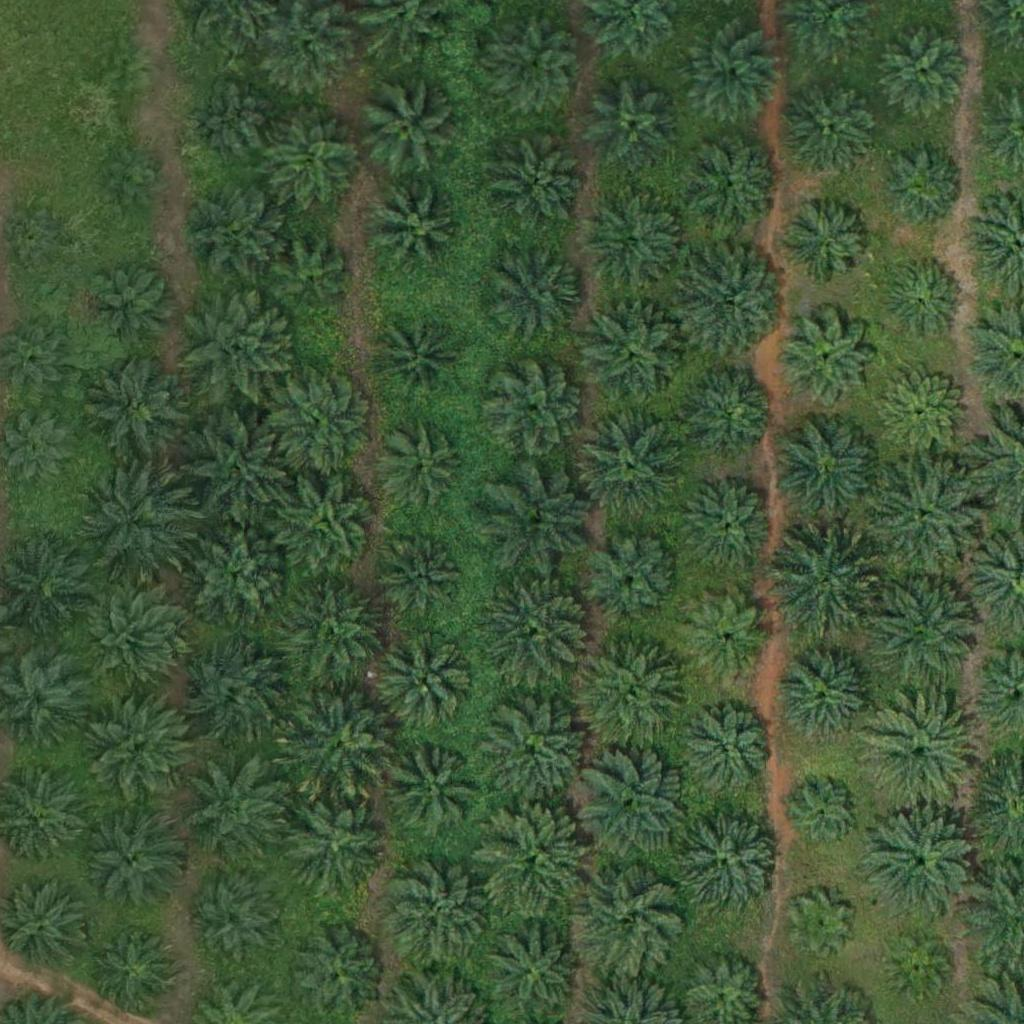Kelapa_Sawit: (576, 298, 689, 412), (676, 244, 789, 358), (773, 414, 886, 528), (765, 527, 878, 641), (81, 693, 194, 807), (182, 292, 295, 405), (482, 579, 595, 692), (477, 698, 590, 811), (771, 636, 884, 749), (863, 698, 976, 811), (865, 809, 978, 922), (570, 864, 683, 977), (475, 802, 588, 915), (871, 459, 983, 573), (868, 571, 980, 685), (179, 757, 291, 871), (678, 14, 790, 127), (76, 354, 188, 467), (77, 469, 189, 582), (182, 416, 294, 529), (179, 634, 291, 747), (283, 586, 395, 699), (482, 458, 594, 571), (575, 405, 687, 518), (572, 636, 684, 749), (674, 808, 786, 921), (574, 749, 686, 862), (384, 856, 496, 969), (280, 690, 392, 803), (780, 76, 880, 177), (260, 104, 360, 205), (190, 65, 290, 166), (190, 188, 290, 289), (189, 529, 289, 630), (278, 374, 378, 475), (276, 471, 376, 572), (368, 313, 468, 414), (375, 631, 475, 732), (484, 354, 584, 455), (581, 525, 681, 626), (381, 740, 481, 841), (487, 11, 587, 111), (487, 133, 587, 233), (362, 80, 462, 180), (85, 590, 185, 690), (492, 241, 592, 341), (584, 189, 684, 289), (678, 363, 778, 463), (678, 477, 778, 577), (775, 309, 875, 409), (284, 799, 384, 899), (81, 814, 181, 914), (86, 260, 174, 348), (683, 709, 771, 797), (782, 200, 870, 288), (880, 254, 968, 342), (877, 368, 965, 456), (880, 26, 967, 115), (378, 534, 465, 623), (588, 84, 675, 172), (688, 139, 775, 227), (381, 421, 468, 509), (683, 593, 770, 681), (878, 142, 965, 230), (186, 880, 273, 968), (84, 927, 171, 1015), (382, 194, 457, 270), (277, 239, 352, 314), (2, 416, 65, 479), (886, 936, 949, 999), (794, 782, 857, 845), (789, 893, 852, 956), (6, 215, 68, 278), (100, 53, 150, 104), (109, 145, 159, 196)
